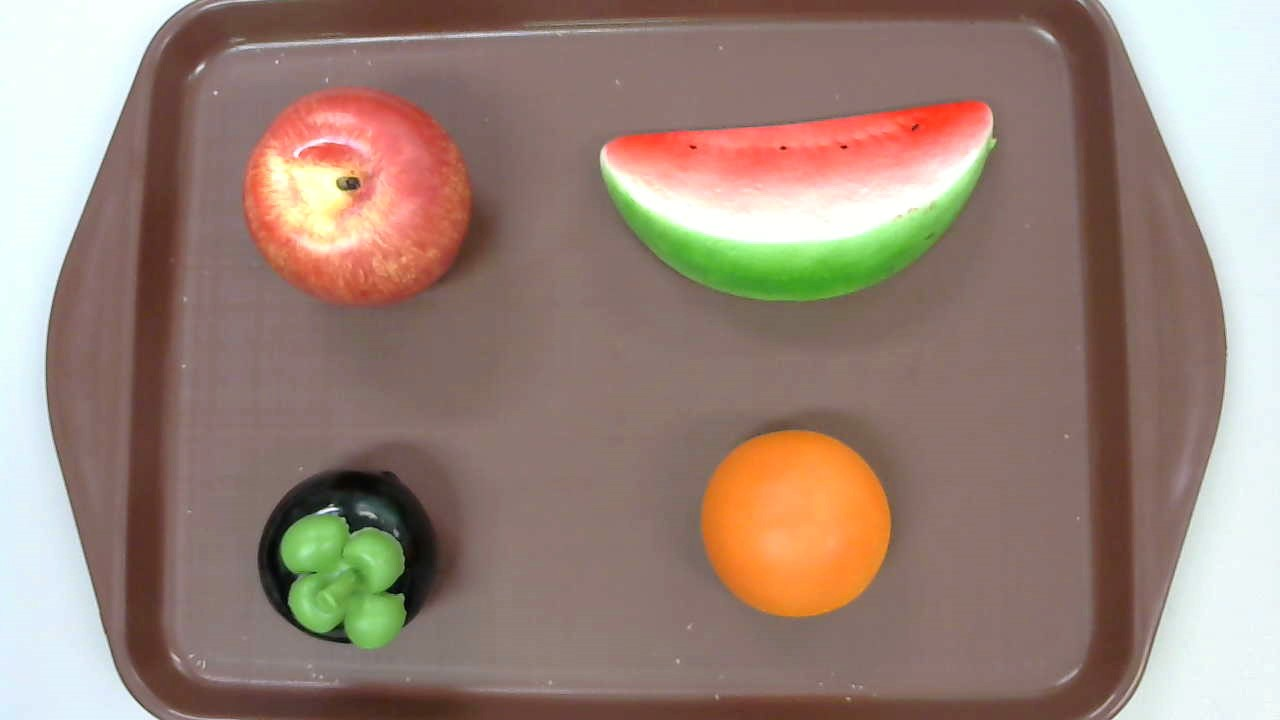bun: (701, 428, 891, 618)
mangosteen: (256, 467, 439, 648)
red apple: (241, 85, 472, 309)
watermelon: (599, 100, 997, 302)
